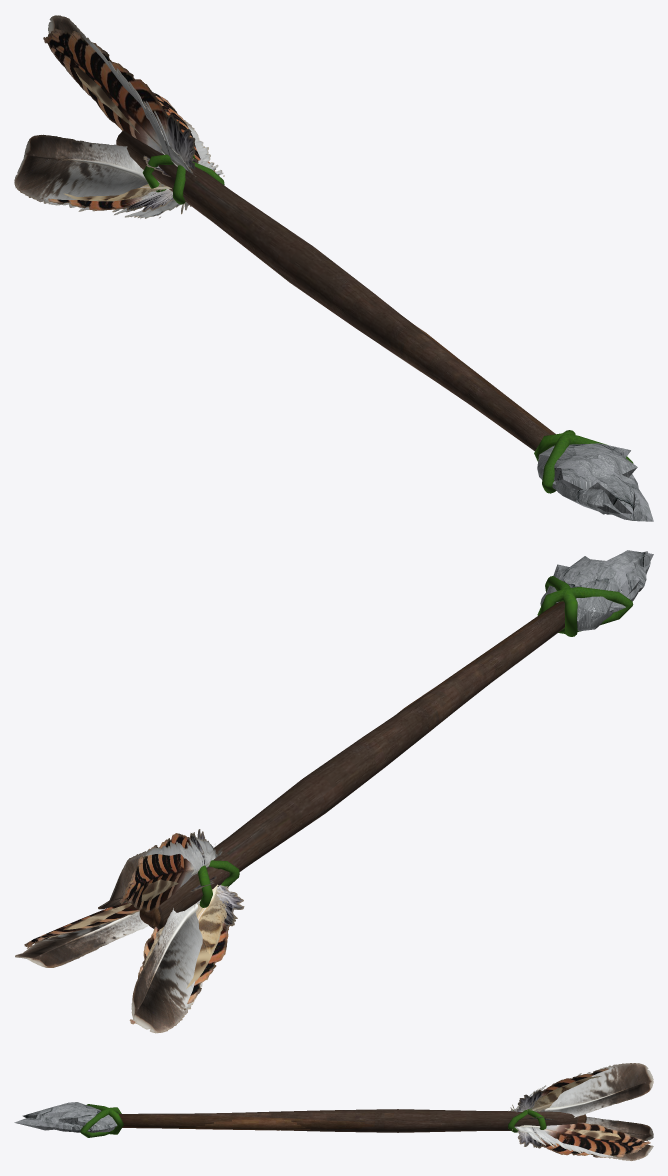
The model's file is Arrow Assemble_Prop.fbx.
The picture shows the model from 3 angles, top to bottom: view 1: azimuth 30°, elevation 25°; view 2: azimuth 150°, elevation 25°; view 3: azimuth 270°, elevation 25°; orthographic projection. The views are drawn at different scales.
Visible parts, largest first — view 1: Wood Arrow.002, feather.002, feather.001, Stone Arrow.002, Vines thread Arrow, feather.003, Stone Arrow.001, Stone Arrow.003; view 2: Wood Arrow.002, feather.002, feather.001, Stone Arrow.002, Vines thread Arrow, feather.003, Wood Arrow.001; view 3: Wood Arrow.002, feather.002, feather.001, Wood Arrow.001, Stone Arrow.002, Wood Arrow.003, Vines thread Arrow, feather.003, Stone Arrow.001, Stone Arrow.003.
Boxes of the visible parts, x1,y1,x2,y2 form: Wood Arrow.002: (116, 130, 550, 450); feather.002: (14, 15, 224, 218); feather.001: (41, 28, 215, 211); Stone Arrow.002: (537, 443, 637, 514); Vines thread Arrow: (142, 154, 633, 493); feather.003: (63, 67, 194, 201); Stone Arrow.001: (541, 472, 640, 514); Stone Arrow.003: (552, 477, 653, 521); Wood Arrow.002: (149, 602, 564, 929); feather.002: (15, 837, 228, 1033); feather.001: (24, 829, 244, 1024); Stone Arrow.002: (546, 550, 653, 631); Vines thread Arrow: (198, 576, 633, 907); feather.003: (49, 879, 229, 988); Wood Arrow.001: (139, 601, 563, 925); Wood Arrow.002: (119, 1109, 585, 1132); feather.002: (508, 1063, 653, 1160); feather.001: (516, 1067, 650, 1157); Wood Arrow.001: (119, 1114, 585, 1129); Stone Arrow.002: (22, 1102, 114, 1132); Wood Arrow.003: (162, 1114, 586, 1130); Vines thread Arrow: (80, 1104, 546, 1137); feather.003: (523, 1076, 621, 1140); Stone Arrow.001: (29, 1115, 117, 1132); Stone Arrow.003: (14, 1118, 92, 1130).
Size of the model in its own units: 0.1425 by 0.1407 by 0.899.
